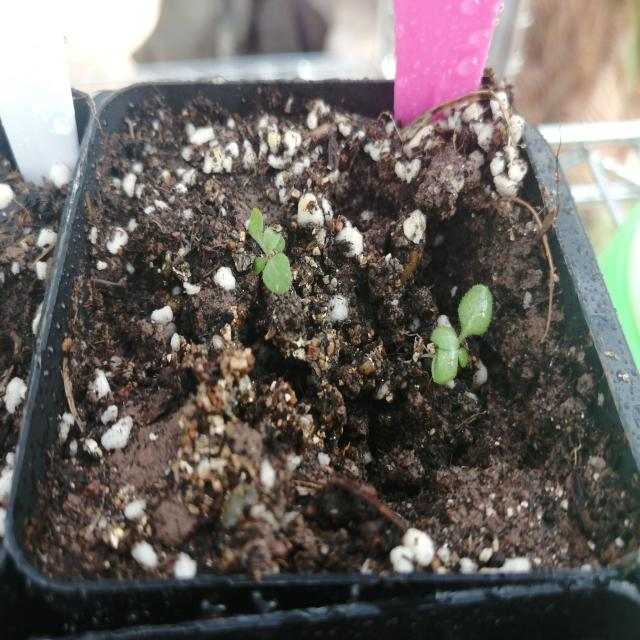billygoat_weed: (420, 270, 505, 399), (248, 202, 306, 303)
